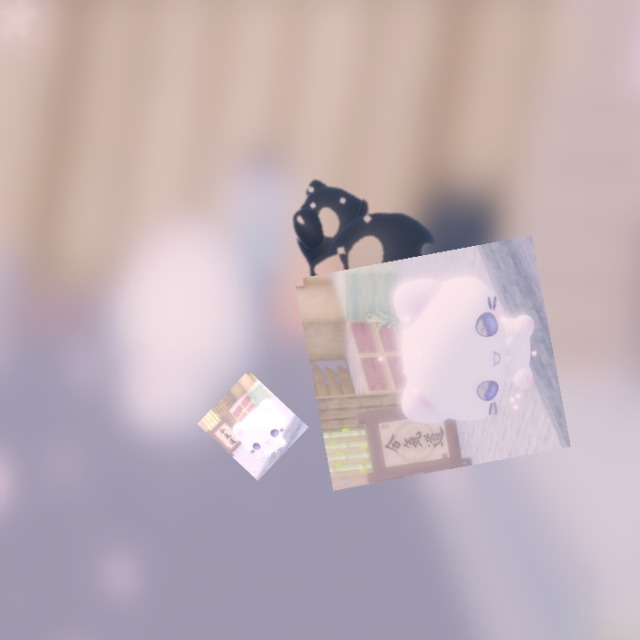urso_branco: (294, 235, 571, 491), (197, 370, 309, 481)
urso_preto: (242, 133, 479, 367), (314, 311, 342, 333)
